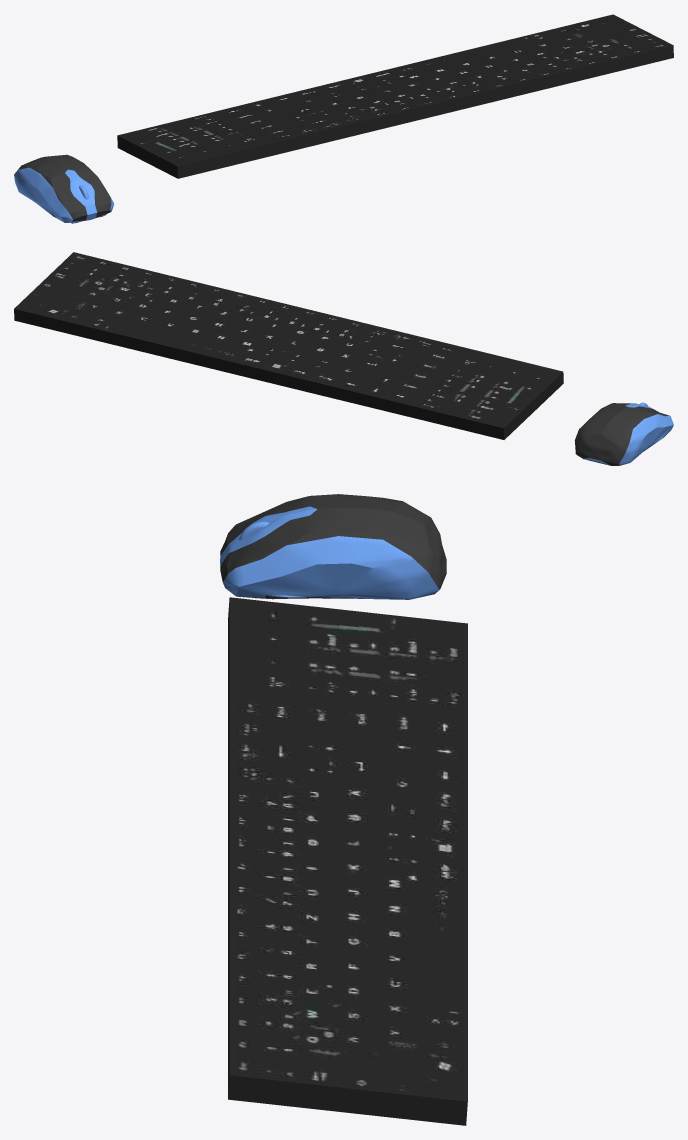
The model's file is tastiera.obj.
3 views of the same model, one above another, from view 1: azimuth 30°, elevation 25°; view 2: azimuth 150°, elevation 25°; view 3: azimuth 270°, elevation 25° (orthographic). The views are drawn at different scales.
Parts seen in each view (by area): view 1: Mesh2 Keyboard Model, Mesh3 Model; view 2: Mesh2 Keyboard Model, Mesh3 Model; view 3: Mesh2 Keyboard Model, Mesh3 Model.
Boxes of the visible parts, x1,y1,x2,y2 form: Mesh2 Keyboard Model: (117,14,673,178); Mesh3 Model: (14,154,114,223); Mesh2 Keyboard Model: (14,252,563,439); Mesh3 Model: (574,403,673,465); Mesh2 Keyboard Model: (228,597,467,1125); Mesh3 Model: (220,494,446,599).
Size of the model in its own units: 4.7 by 0.2615 by 0.8341.
5 materials, 1 textured.
